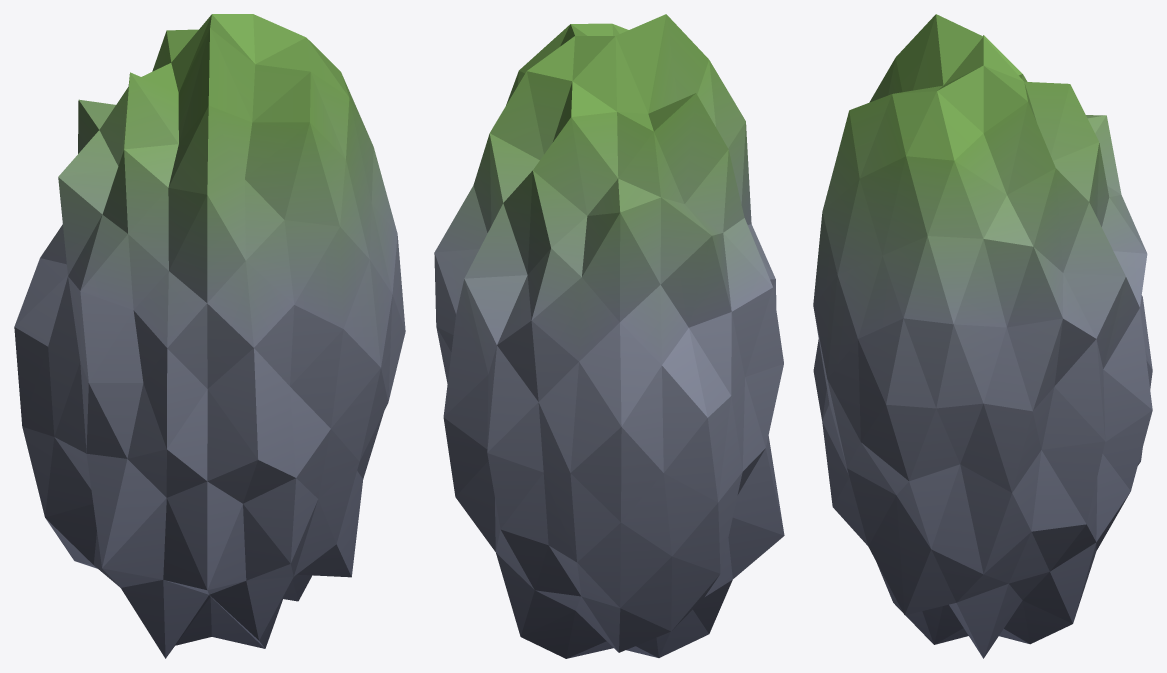
Rendered from rock_tall.glb.
The picture shows the model from 3 angles, left to right: view 1: azimuth 30°, elevation 25°; view 2: azimuth 150°, elevation 25°; view 3: azimuth 270°, elevation 25°; orthographic projection. The views are drawn at different scales.
Visible parts, largest first — view 1: rock_tall; view 2: rock_tall; view 3: rock_tall.
Boxes of the visible parts, x1,y1,x2,y2 form: rock_tall: (14, 14, 405, 658); rock_tall: (434, 14, 784, 658); rock_tall: (813, 14, 1152, 658).
Bounding box in the file's own units: 0.9594 × 1.9 × 0.9653.
